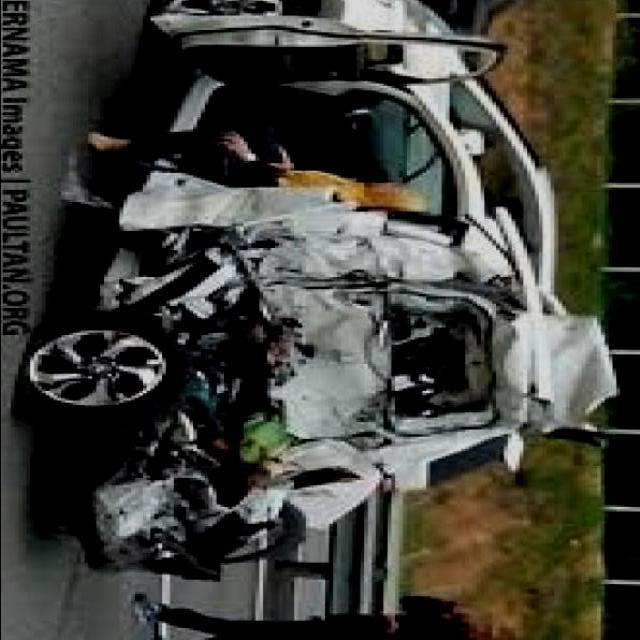accident: (8, 141, 615, 598)
